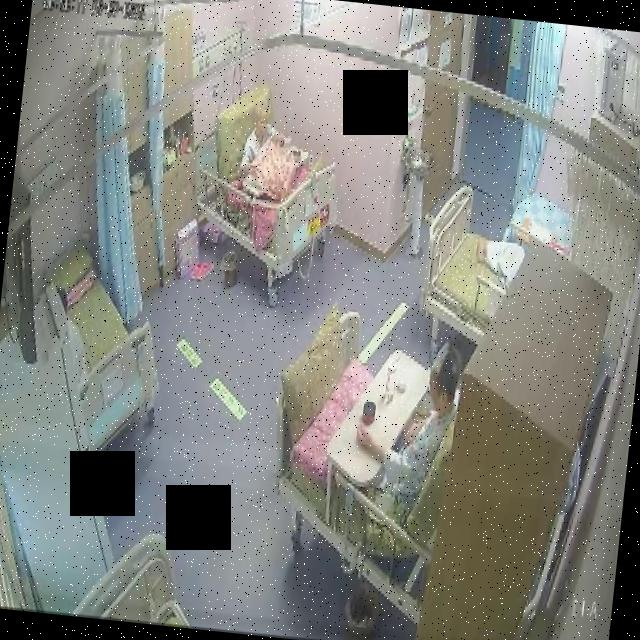bed: (258, 306, 466, 588), (185, 102, 358, 306), (34, 250, 173, 464), (414, 179, 530, 348)
patient: (348, 324, 467, 522), (236, 98, 286, 173)
sit: (346, 324, 468, 528), (235, 100, 287, 178)
